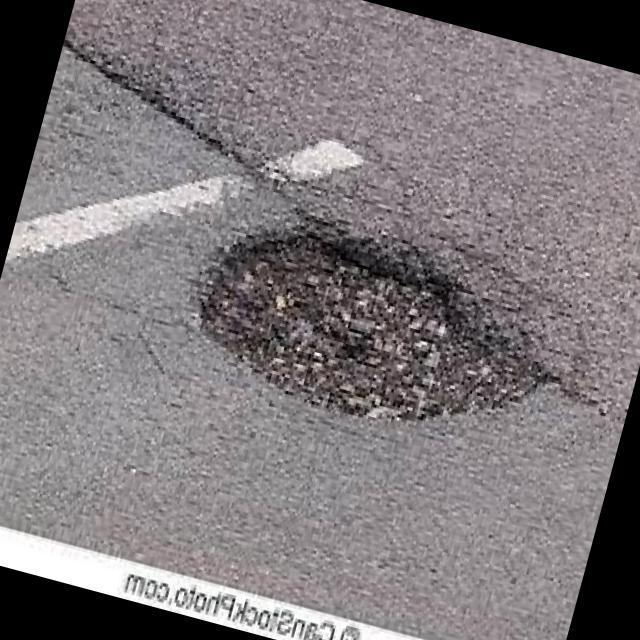Pothole: (196, 217, 560, 426)
